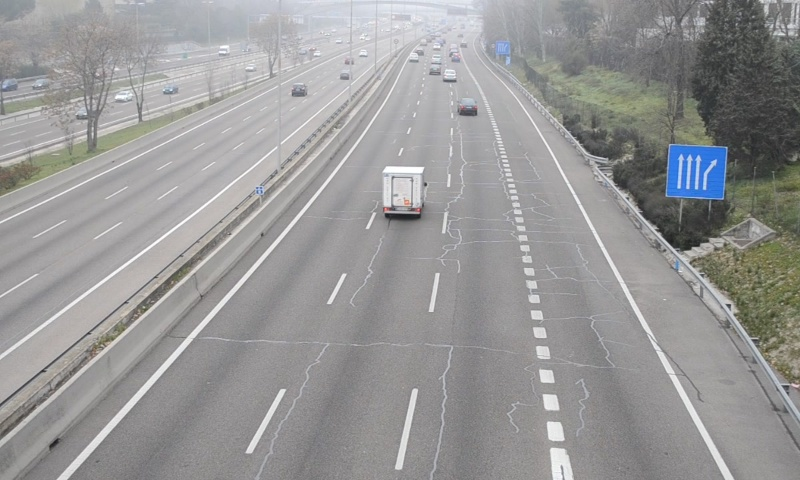car: (456, 96, 479, 114)
small-truck: (383, 166, 426, 216)
